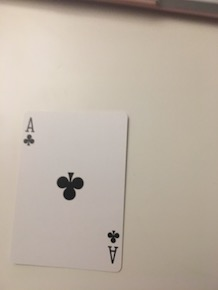AceOfClubs: (9, 107, 132, 273)
